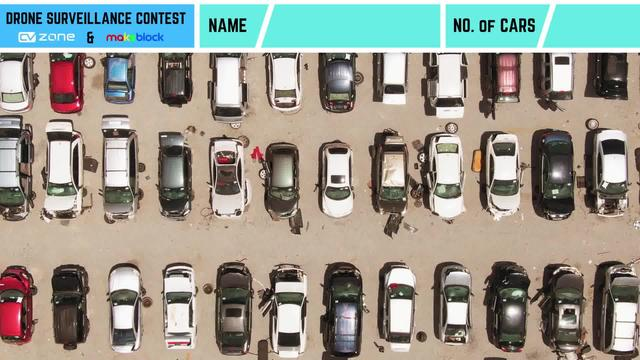car: (98, 114, 139, 221), (42, 119, 84, 221), (596, 263, 640, 356), (589, 127, 633, 217), (542, 265, 585, 352), (488, 266, 531, 351), (535, 131, 576, 220), (1, 113, 34, 222), (215, 261, 252, 356), (270, 265, 307, 360), (324, 265, 361, 360), (426, 134, 466, 219), (483, 132, 523, 217), (52, 265, 92, 349), (105, 264, 142, 352), (157, 130, 194, 218), (317, 143, 357, 219), (209, 137, 246, 219), (163, 263, 198, 349), (372, 135, 409, 216), (380, 265, 414, 353), (1, 265, 37, 344), (206, 52, 247, 121), (425, 53, 468, 118), (263, 143, 300, 218), (45, 52, 88, 114), (439, 265, 472, 345), (264, 51, 304, 111), (318, 53, 358, 113), (1, 52, 37, 114), (372, 49, 409, 106), (158, 52, 193, 109), (486, 52, 523, 103), (101, 53, 136, 106), (539, 52, 575, 103), (590, 52, 628, 98)
